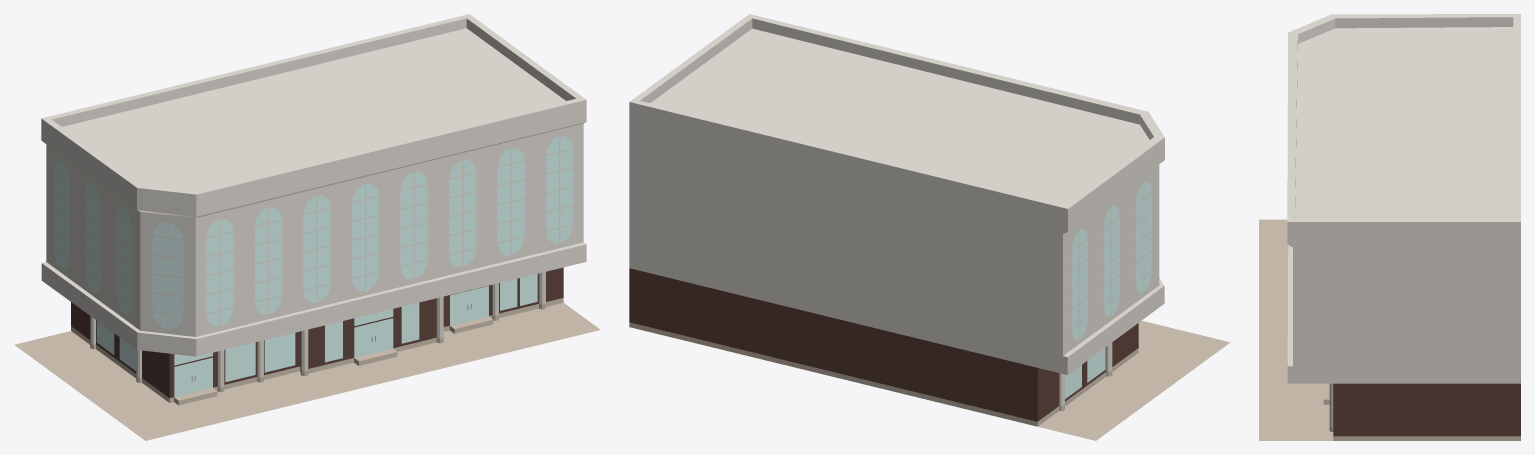
Rendered from shop_4x2.fbx.
3 views of the same model, side by side, from view 1: azimuth 30°, elevation 25°; view 2: azimuth 150°, elevation 25°; view 3: azimuth 270°, elevation 25° (orthographic). The views are drawn at different scales.
Visible parts, largest first — view 1: shop_4x2; view 2: shop_4x2; view 3: shop_4x2.
Part boxes in pixels (x1=…): shop_4x2: x1=14, y1=14, x2=600, y2=440; shop_4x2: x1=629, y1=14, x2=1230, y2=440; shop_4x2: x1=1259, y1=14, x2=1520, y2=440.
Size of the model in its own units: 400 by 185 by 200.
